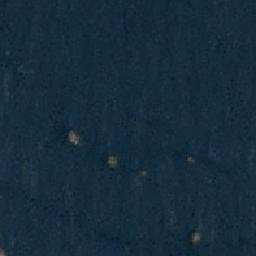debris: (64, 129, 80, 145), (103, 153, 119, 167), (190, 230, 203, 244), (138, 168, 148, 176), (187, 157, 194, 162)
